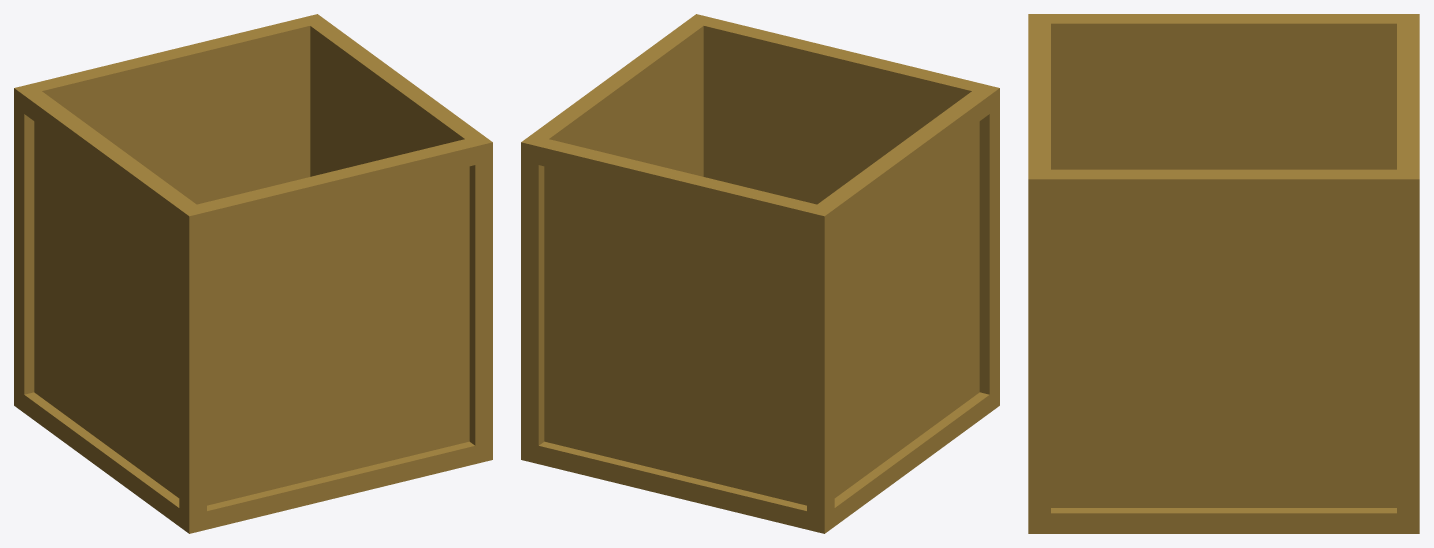
The model's file is KotakBarang.fbx.
3 views of the same model, side by side, from view 1: azimuth 30°, elevation 25°; view 2: azimuth 150°, elevation 25°; view 3: azimuth 270°, elevation 25° (orthographic). The views are drawn at different scales.
Parts seen in each view (by area): view 1: Cube.021; view 2: Cube.021; view 3: Cube.021.
Boxes of the visible parts, x1,y1,x2,y2 form: Cube.021: [14, 14, 492, 533]; Cube.021: [521, 14, 999, 533]; Cube.021: [1028, 14, 1419, 533].
Bounding box in the file's own units: 200 × 200 × 200.
